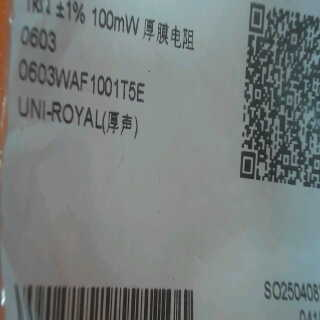1kR: (22, 1, 55, 24)
